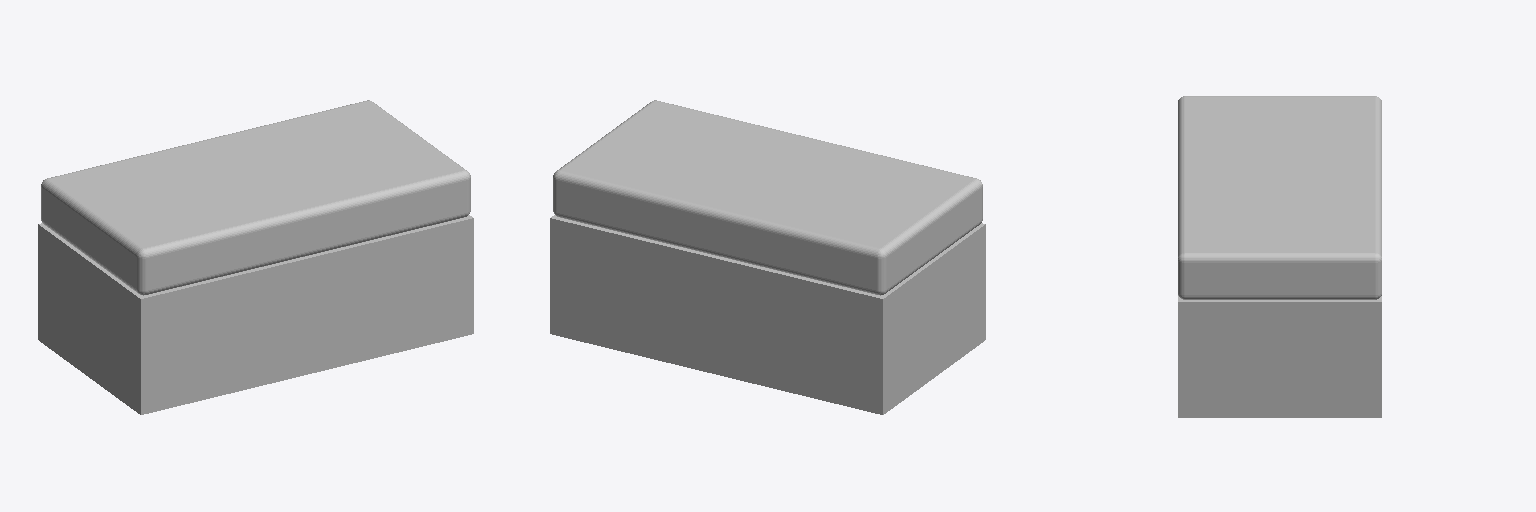
Rendered from bed.obj.
3 views of the same model, side by side, from view 1: azimuth 30°, elevation 25°; view 2: azimuth 150°, elevation 25°; view 3: azimuth 270°, elevation 25° (orthographic).
Visible parts, largest first — view 1: BedBase_Cube.017, BedBase.001_Cube.018; view 2: BedBase_Cube.017, BedBase.001_Cube.018; view 3: BedBase.001_Cube.018, BedBase_Cube.017.
Boxes of the visible parts, <box> form: BedBase_Cube.017: <box>38,215,473,414</box>; BedBase.001_Cube.018: <box>41,100,470,295</box>; BedBase_Cube.017: <box>550,215,985,414</box>; BedBase.001_Cube.018: <box>553,100,982,295</box>; BedBase.001_Cube.018: <box>1178,96,1381,299</box>; BedBase_Cube.017: <box>1178,296,1381,417</box>.
Size of the model in its own units: 3 by 1.4 by 1.6.